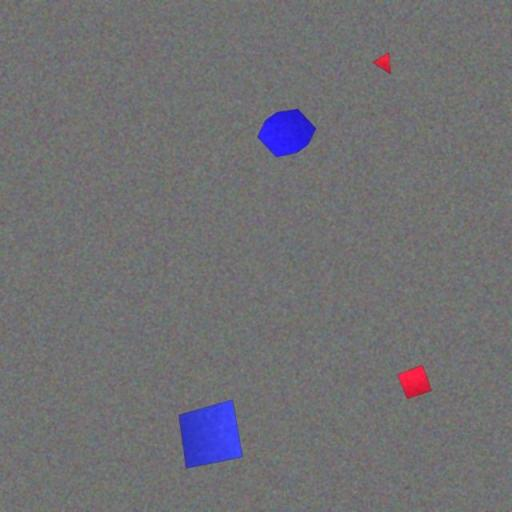BLUE_SQUARE: (178, 399, 244, 470)
RED_SQUARE: (397, 364, 433, 400)
